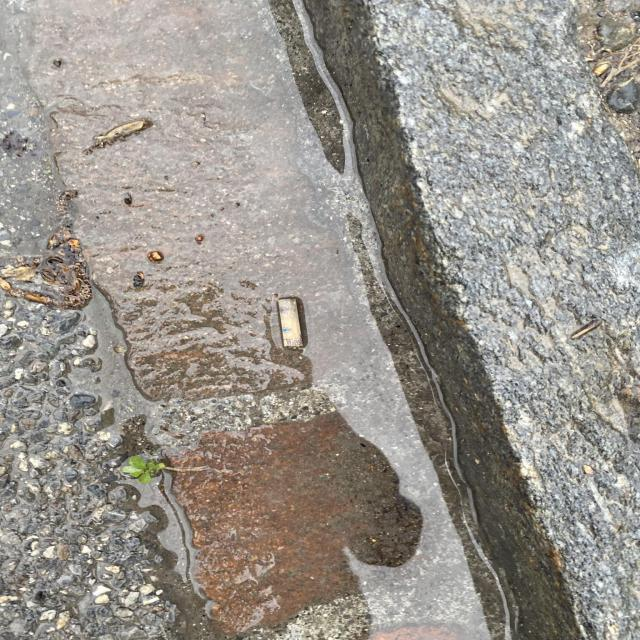other waste: (277, 298, 303, 347)
